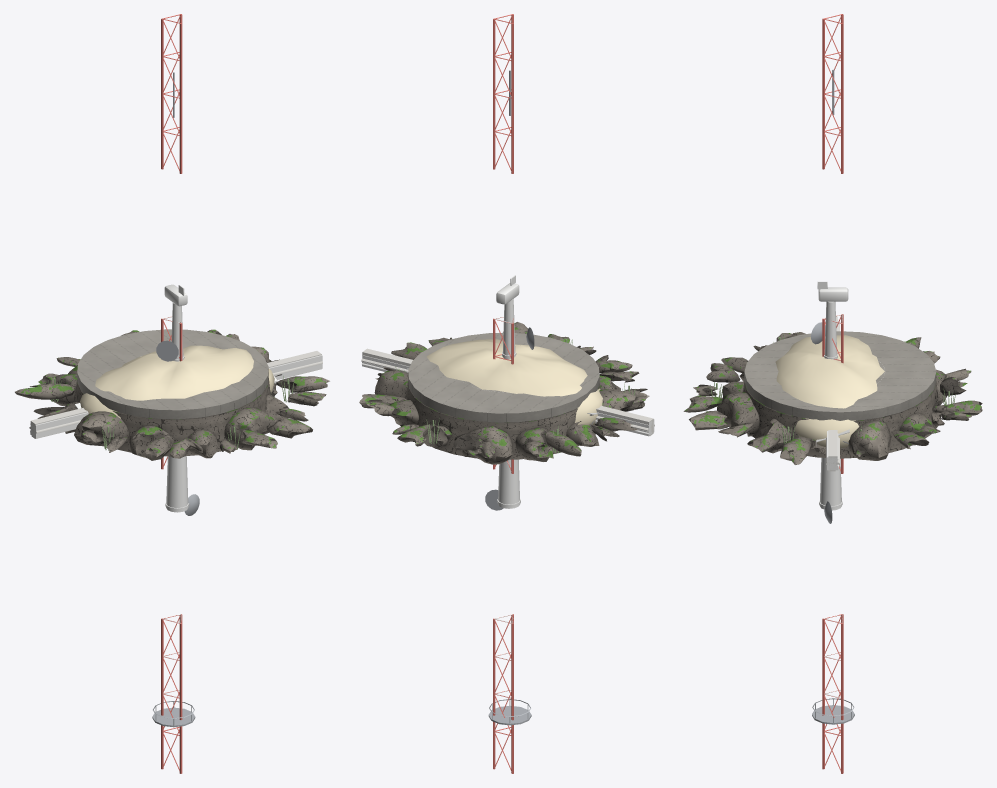
The model's file is Shapes.fbx.
3 renders of one model, left to right at view 1: azimuth 30°, elevation 25°; view 2: azimuth 150°, elevation 25°; view 3: azimuth 270°, elevation 25°, orthographic.
Visible parts, largest first — view 1: RockBase.001, DuneSand.001, PondStones.001, MastRed.001, WindTower.001, MastKit.001, ParapetWall.001, RoofEdge.001; view 2: RockBase.001, DuneSand.001, PondStones.001, MastRed.001, WindTower.001, MastKit.001, RoofEdge.001; view 3: RockBase.001, DuneSand.001, PondStones.001, MastRed.001, WindTower.001, MastKit.001.
Part boxes in pixels (<box>): RockBase.001: <box>50,329,288,460</box>; DuneSand.001: <box>79,345,274,418</box>; PondStones.001: <box>15,329,329,458</box>; MastRed.001: <box>161,14,182,773</box>; WindTower.001: <box>164,284,189,512</box>; MastKit.001: <box>152,72,199,727</box>; ParapetWall.001: <box>30,355,322,438</box>; RoofEdge.001: <box>30,351,321,438</box>; RockBase.001: <box>374,333,635,464</box>; DuneSand.001: <box>426,339,602,426</box>; PondStones.001: <box>359,322,649,458</box>; MastRed.001: <box>493,14,513,773</box>; WindTower.001: <box>496,275,520,508</box>; MastKit.001: <box>485,70,534,725</box>; RoofEdge.001: <box>362,348,653,435</box>; RockBase.001: <box>717,331,946,460</box>; DuneSand.001: <box>775,335,884,448</box>; PondStones.001: <box>683,333,982,464</box>; MastRed.001: <box>822,14,843,773</box>; WindTower.001: <box>817,281,848,510</box>; MastKit.001: <box>811,69,854,724</box>.
Size of the model in its own units: 40 by 100 by 36.2.
Materials: 54 (1 with a texture image).
